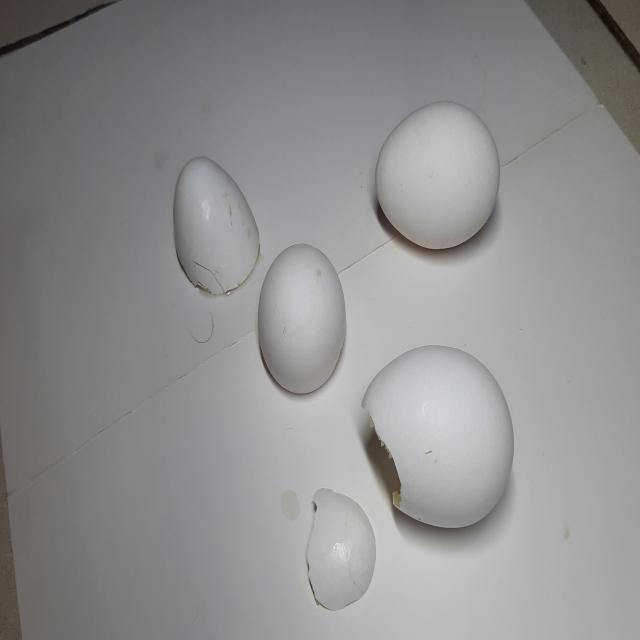egg shell: (358, 343, 520, 546), (373, 94, 503, 260), (255, 238, 349, 400), (170, 150, 263, 301), (301, 482, 379, 622)
